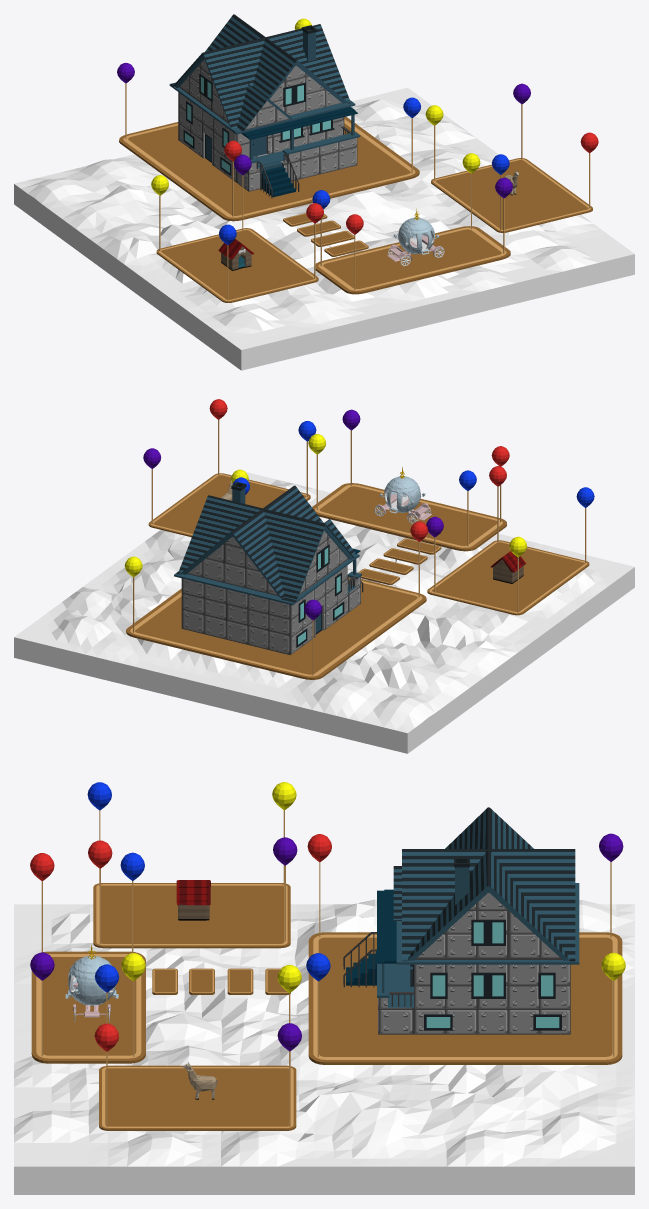
The picture shows the model from 3 angles, top to bottom: view 1: azimuth 30°, elevation 25°; view 2: azimuth 150°, elevation 25°; view 3: azimuth 270°, elevation 25°; orthographic projection. The views are drawn at different scales.
Parts seen in each view (by area): view 1: Cube.013, Cube.078, VEHICLES_FANTASY_CARRIAGE, OBJRANDOM_DOGHOUSE; view 2: Cube.013, Cube.078, VEHICLES_FANTASY_CARRIAGE, OBJRANDOM_DOGHOUSE; view 3: Cube.013, Cube.078, VEHICLES_FANTASY_CARRIAGE, OBJRANDOM_DOGHOUSE.
Boxes of the visible parts, <box> form: Cube.013: <box>14,18,634,370</box>; Cube.078: <box>169,14,360,198</box>; VEHICLES_FANTASY_CARRIAGE: <box>387,208,444,266</box>; OBJRANDOM_DOGHOUSE: <box>218,239,253,270</box>; Cube.013: <box>14,399,634,753</box>; Cube.078: <box>174,482,363,655</box>; VEHICLES_FANTASY_CARRIAGE: <box>374,467,431,524</box>; OBJRANDOM_DOGHOUSE: <box>491,551,526,583</box>; Cube.013: <box>14,782,634,1194</box>; Cube.078: <box>343,807,579,1034</box>; VEHICLES_FANTASY_CARRIAGE: <box>65,945,118,1021</box>; OBJRANDOM_DOGHOUSE: <box>176,880,210,920</box>.
Bounding box in the file's own units: 4000 × 1688 × 4000.
Materials: 37 (3 with a texture image).
